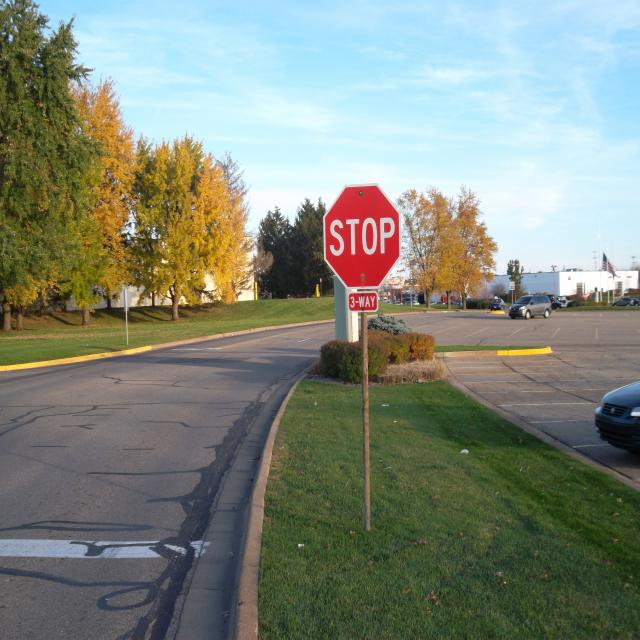stop: (316, 180, 408, 290)
